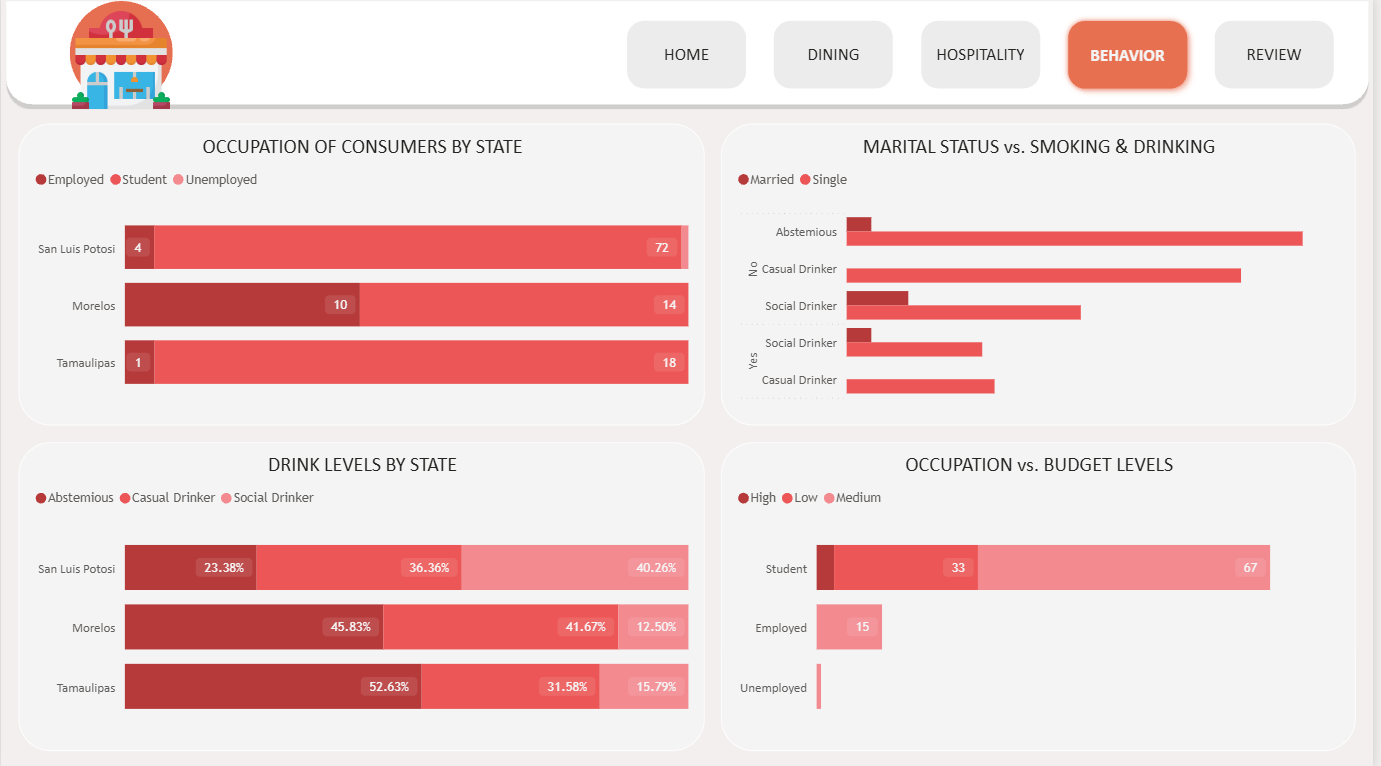

What the dashboard file says about the page in this screenshot:
{"tool":"powerbi","page":{"name":"BEHAVIOR","canvas":[1280,720],"ordinal":3},"visuals":[{"type":"hundredPercentStackedBarChart","title":"OCCUPATION OF CONSUMERS BY STATE","fields":{"Y":["CountNonNull(consumers.Consumer_ID)"],"Category":["consumers.State"],"Series":["consumers.Occupation"]},"box":[15.9,118.7,640.1,281.3],"z":0},{"type":"clusteredBarChart","title":"MARITAL STATUS vs. SMOKING & DRINKING","fields":{"Category":["consumers.Smoker","consumers.Drink_Level"],"Y":["CountNonNull(consumers.Consumer_ID)"],"Series":["consumers.Marital_Status"]},"box":[672,118.7,591.8,281.3],"z":1000},{"type":"hundredPercentStackedBarChart","title":"DRINK LEVELS BY STATE","fields":{"Y":["CountNonNull(consumers.Consumer_ID)"],"Series":["consumers.Drink_Level"],"Category":["consumers.State"]},"box":[16,416,640,288],"z":2000},{"type":"barChart","title":"OCCUPATION vs. BUDGET LEVELS","fields":{"Category":["consumers.Occupation"],"Y":["CountNonNull(consumers.Consumer_ID)"],"Series":["consumers.Budget"]},"box":[672,416,592,288],"z":3000},{"type":"shape","box":[0,0,1280.5,105.9],"z":4000},{"type":"pageNavigator","box":[576,15.5,677.6,79.1],"z":5000},{"type":"shape","box":[63.7,4.4,96.2,96.7],"z":6000},{"type":"image","box":[56,9.3,111.5,101.1],"z":7000}]}

Visuals, with their boxes in screenshot pixels (x1, y1, x2, y2), scaled from the page's 1280x720 canvas onto the 1381x766 screenshot:
"OCCUPATION OF CONSUMERS BY STATE" hundredPercentStackedBarChart: {"x1": 17, "y1": 126, "x2": 708, "y2": 426}
"MARITAL STATUS vs. SMOKING & DRINKING" clusteredBarChart: {"x1": 725, "y1": 126, "x2": 1364, "y2": 426}
"DRINK LEVELS BY STATE" hundredPercentStackedBarChart: {"x1": 17, "y1": 443, "x2": 708, "y2": 749}
"OCCUPATION vs. BUDGET LEVELS" barChart: {"x1": 725, "y1": 443, "x2": 1364, "y2": 749}
shape: {"x1": 0, "y1": 0, "x2": 1380, "y2": 113}
pageNavigator: {"x1": 621, "y1": 16, "x2": 1353, "y2": 101}
shape: {"x1": 69, "y1": 5, "x2": 173, "y2": 108}
image: {"x1": 60, "y1": 10, "x2": 181, "y2": 117}
